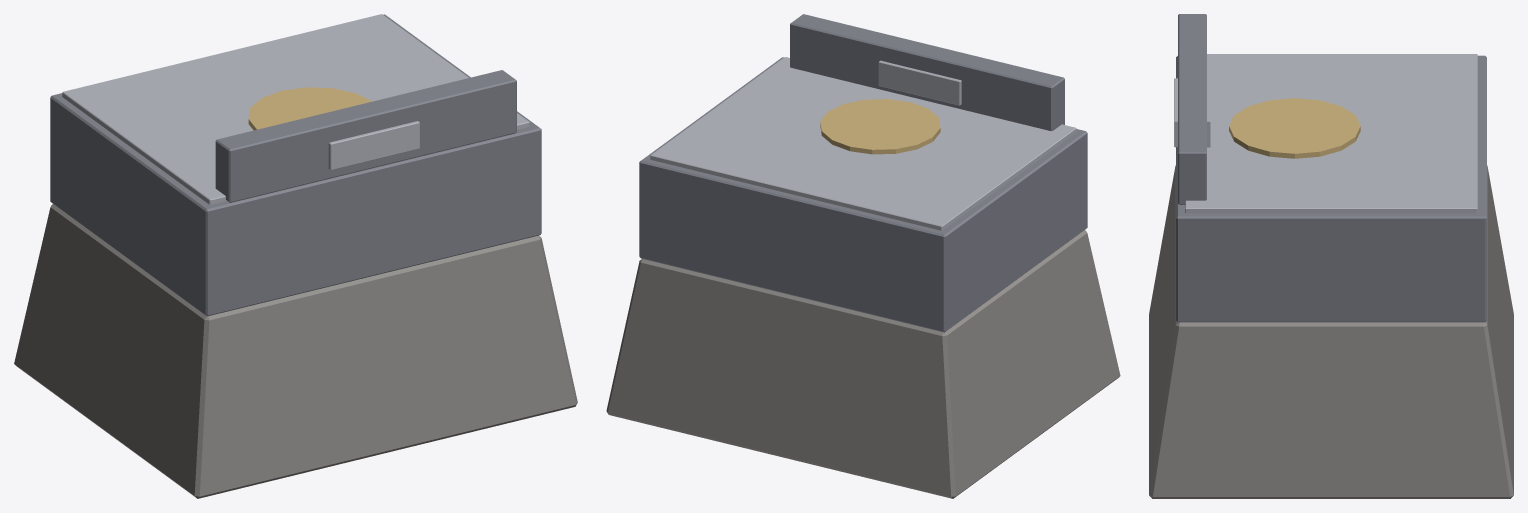
File: gearforge_defensive_bastion.glb
3 views of the same model, side by side, from view 1: azimuth 30°, elevation 25°; view 2: azimuth 150°, elevation 25°; view 3: azimuth 270°, elevation 25° (orthographic). The views are drawn at different scales.
Visible parts, largest first — view 1: gearforge_defensive_bastion_lod0; view 2: gearforge_defensive_bastion_lod0; view 3: gearforge_defensive_bastion_lod0.
Boxes of the visible parts, x1,y1,x2,y2 form: gearforge_defensive_bastion_lod0: (14, 14, 577, 498); gearforge_defensive_bastion_lod0: (606, 14, 1120, 498); gearforge_defensive_bastion_lod0: (1149, 14, 1513, 498).
Bounding box in the file's own units: 11.97 × 9.8 × 9.97.
